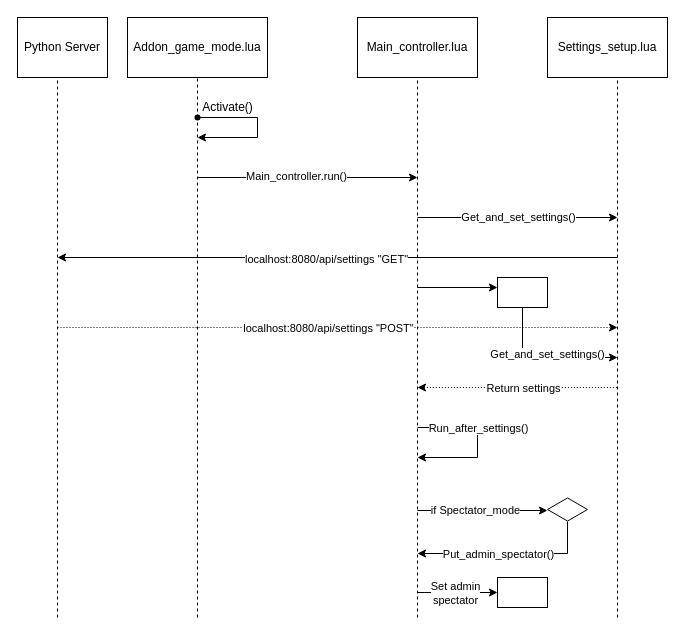
Some shapes in this 685 by 636 pixel diagram are drawn without their labels. Here are the shapes that lost their labels. From the top down, the box of each, then its label:
(496, 276, 548, 308): Timer
(496, 576, 548, 608): Game API
